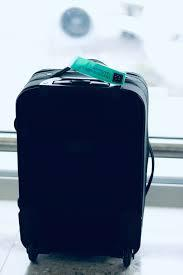suitcase: (12, 56, 156, 264)
